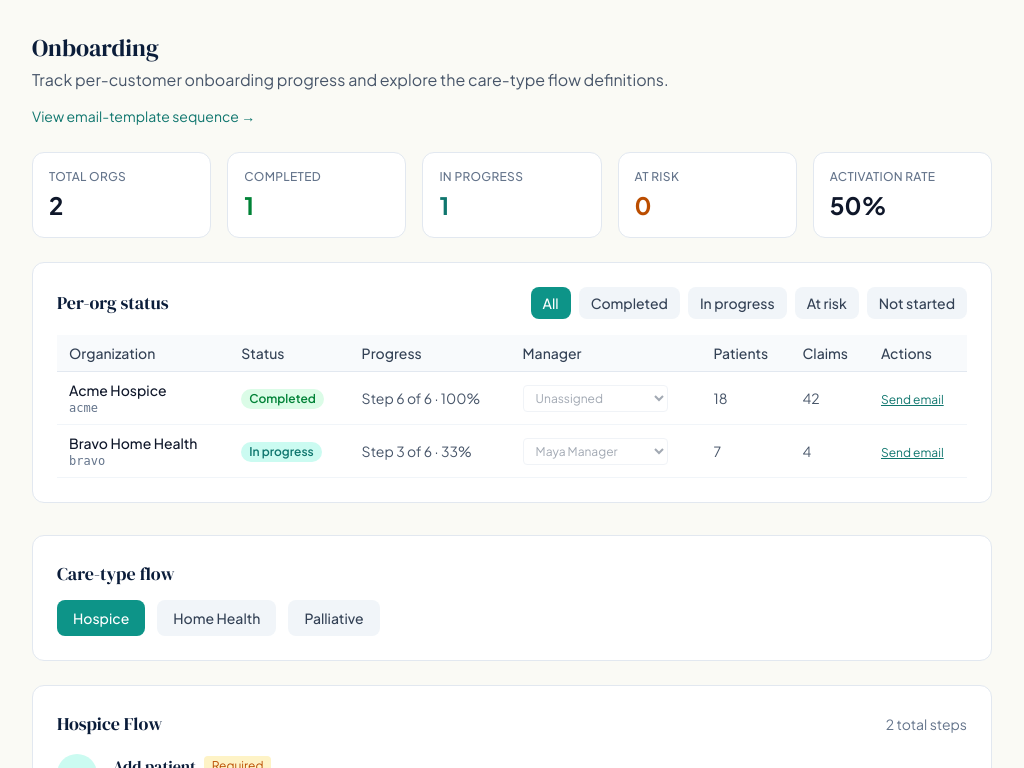
OnboardingPage › permission gating › disables the modal Send button with a permission tooltip when the user lacks platform:onboarding
The image size is (1024, 768).
Expected: the text "Bravo Home Health" is shown, x1=69 y1=433 x2=217 y2=453
Click the button "Send email" in the row of "Bravo Home Health". click: (912, 453)
box: x1=881 y1=445 x2=944 y2=461
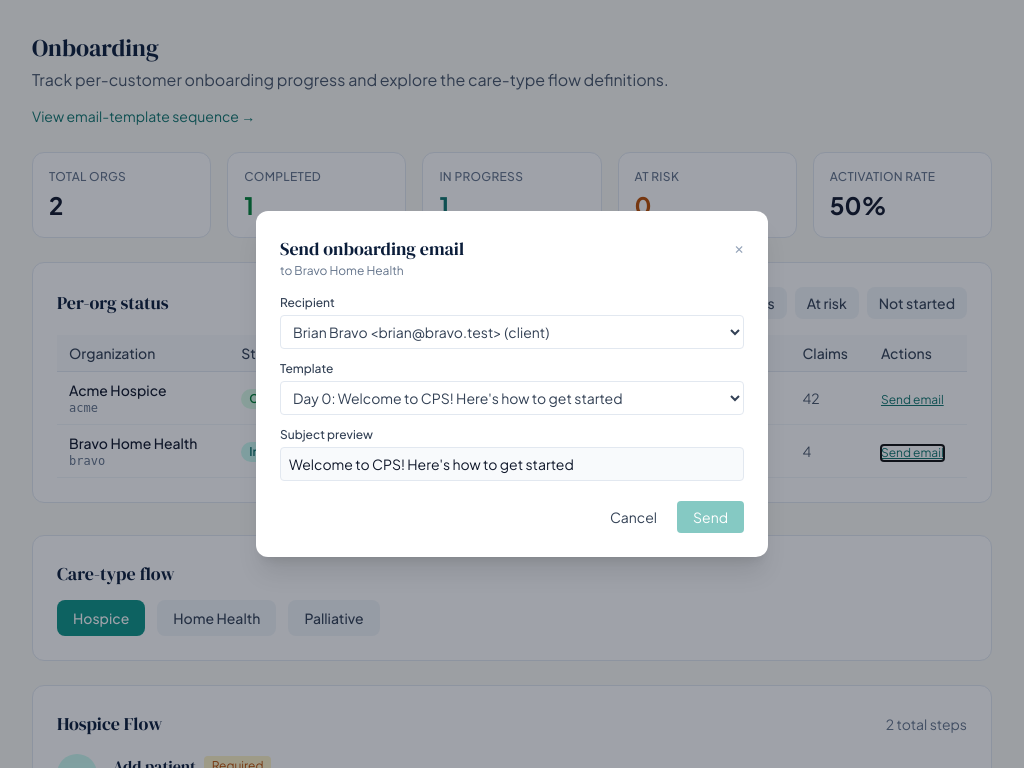
Result: the dialog is shown
Result: the button "Send" is disabled at x1=677 y1=501 x2=744 y2=533
